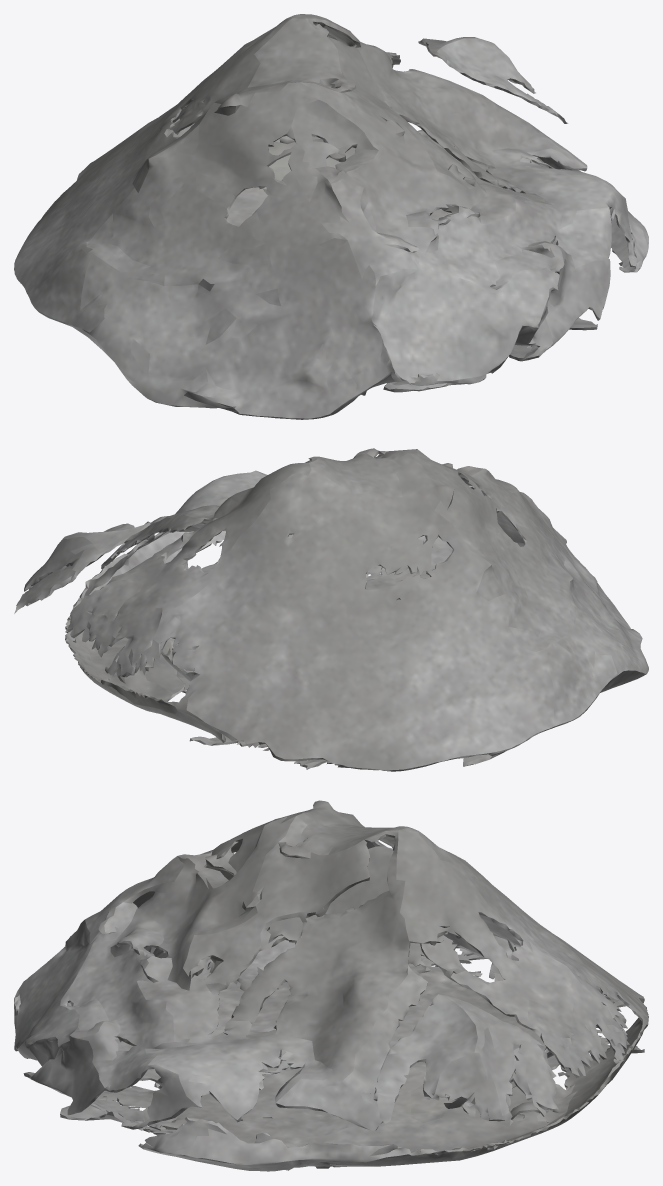
3 views of the same model, one above another, from view 1: azimuth 30°, elevation 25°; view 2: azimuth 150°, elevation 25°; view 3: azimuth 270°, elevation 25° (orthographic). The views are drawn at different scales.
Parts seen in each view (by area): view 1: world; view 2: world; view 3: world.
Part boxes in pixels (x1,y1,x2,y2): world: [14, 14, 648, 419]; world: [14, 448, 648, 771]; world: [14, 800, 648, 1171].
Bounding box in the file's own units: 0.45 × 0.1946 × 0.4522.
Materials: 1 (1 with a texture image).
